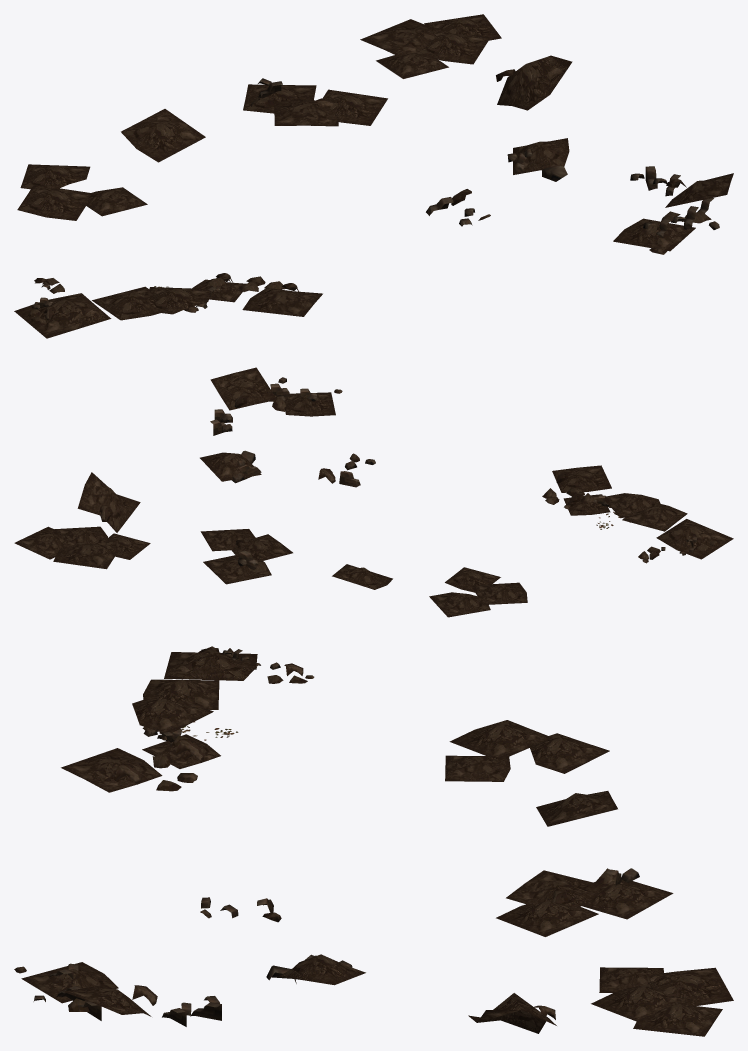
Rendered from slsd_qiangmi_04.FBX.
3 views of the same model, one above another, from view 1: azimuth 30°, elevation 25°; view 2: azimuth 150°, elevation 25°; view 3: azimuth 270°, elevation 25° (orthographic). The views are drawn at different scales.
Visible parts, largest first — view 1: slsd_qiangmi_04; view 2: slsd_qiangmi_04; view 3: slsd_qiangmi_04.
Boxes of the visible parts, <box> form: slsd_qiangmi_04: <box>14,14,733,338</box>; slsd_qiangmi_04: <box>14,367,733,617</box>; slsd_qiangmi_04: <box>14,646,733,1036</box>.
Size of the model in its own units: 6345 by 457 by 5017.
